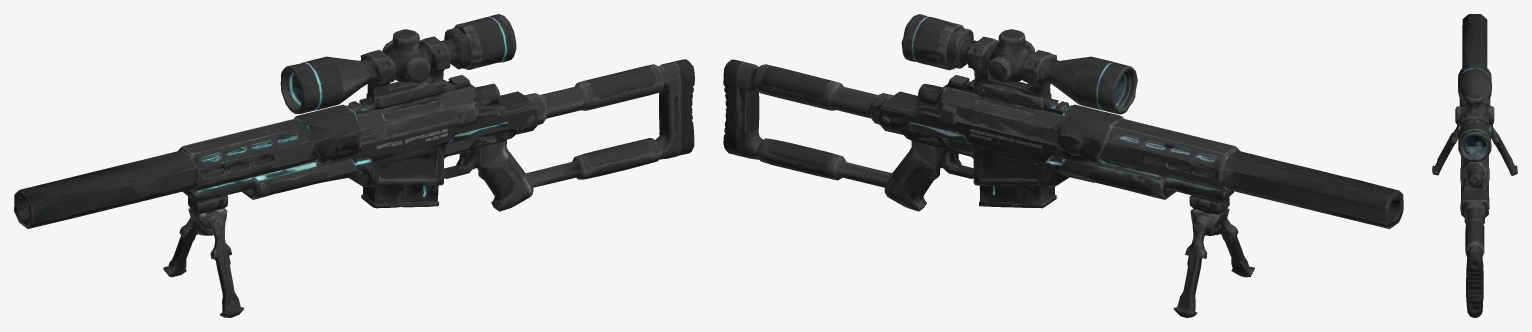
The model's file is Meshy_AI_Make_a_futureristic_s_1022125526_texture.glb.
3 renders of one model, left to right at view 1: azimuth 30°, elevation 25°; view 2: azimuth 150°, elevation 25°; view 3: azimuth 270°, elevation 25°, orthographic. The views are drawn at different scales.
Bounding box in the file's own units: 1.9 × 0.5831 × 0.3095.
1 material, 1 textured.
